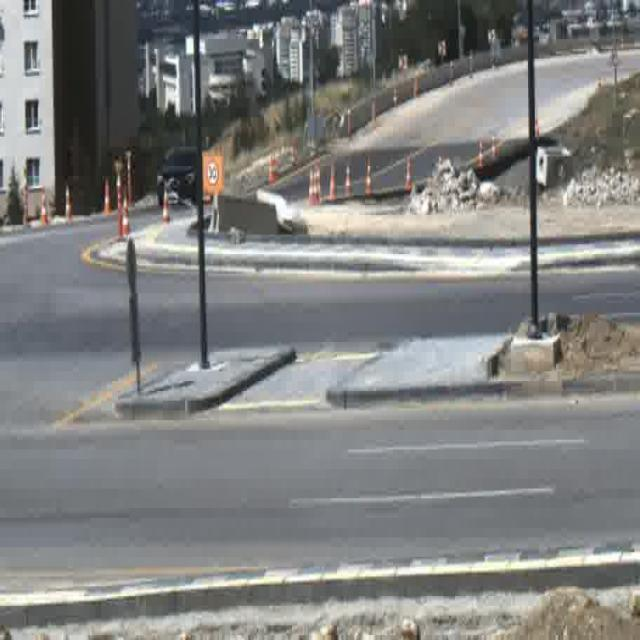Car: (158, 146, 196, 206)
